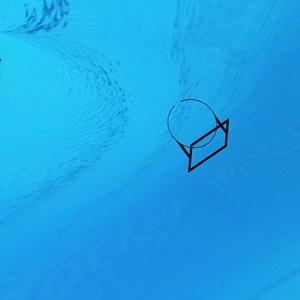circle: (166, 98, 231, 176)
